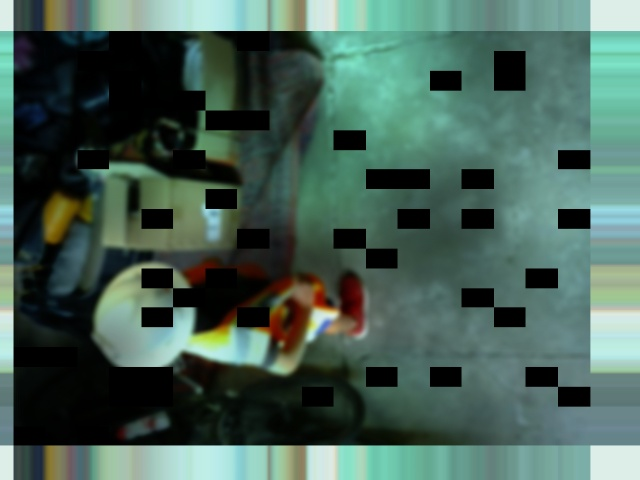one: (90, 332, 117, 359)
